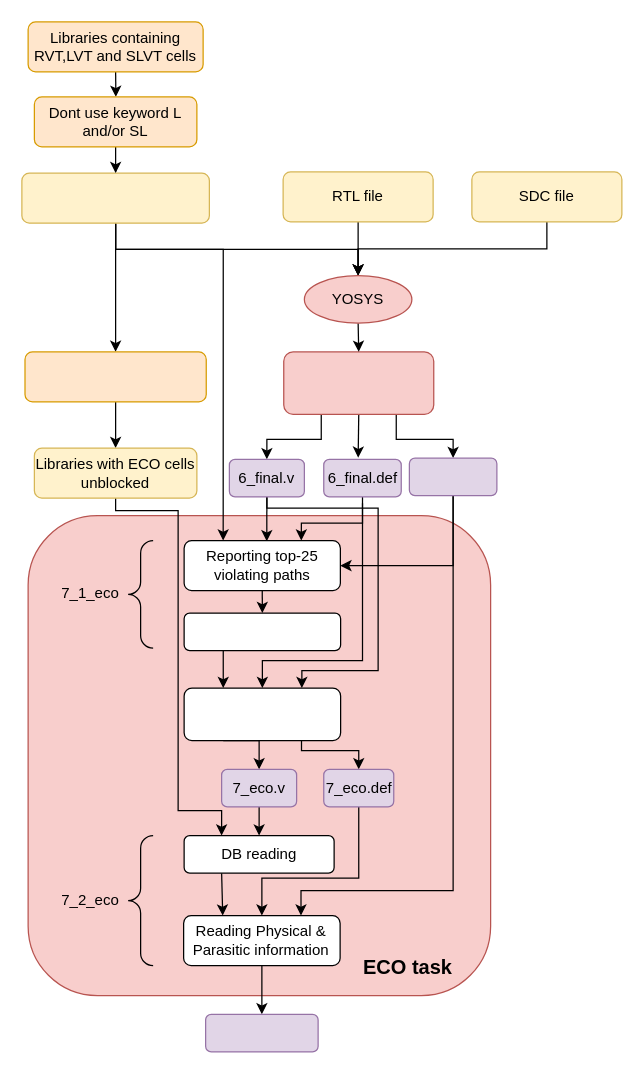
Image size: 644x1074. Some labels were removed from this diagram. Each missing label, with the box of its shape:
6_final.spef: (408, 457, 497, 496)
7_eco.odb: (204, 1013, 318, 1052)
ECO Engine: (183, 687, 341, 741)
Keywords of cells to enable for ECO (SL): (24, 351, 206, 402)
Libraries with cells blocked with dont_use = true: (21, 172, 209, 223)
OpenROAD: FLoorplan,Place, CTS,Route & Finish: (282, 351, 434, 414)
Timing reports in Logs: (183, 612, 341, 651)
